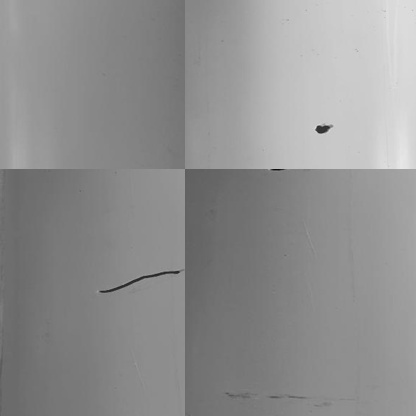fengxi: (99, 264, 182, 292)
kongdong: (313, 122, 332, 140)
